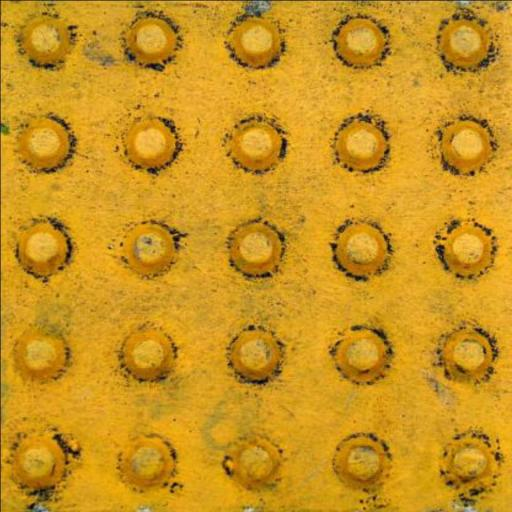dot: (2, 2, 511, 511)
